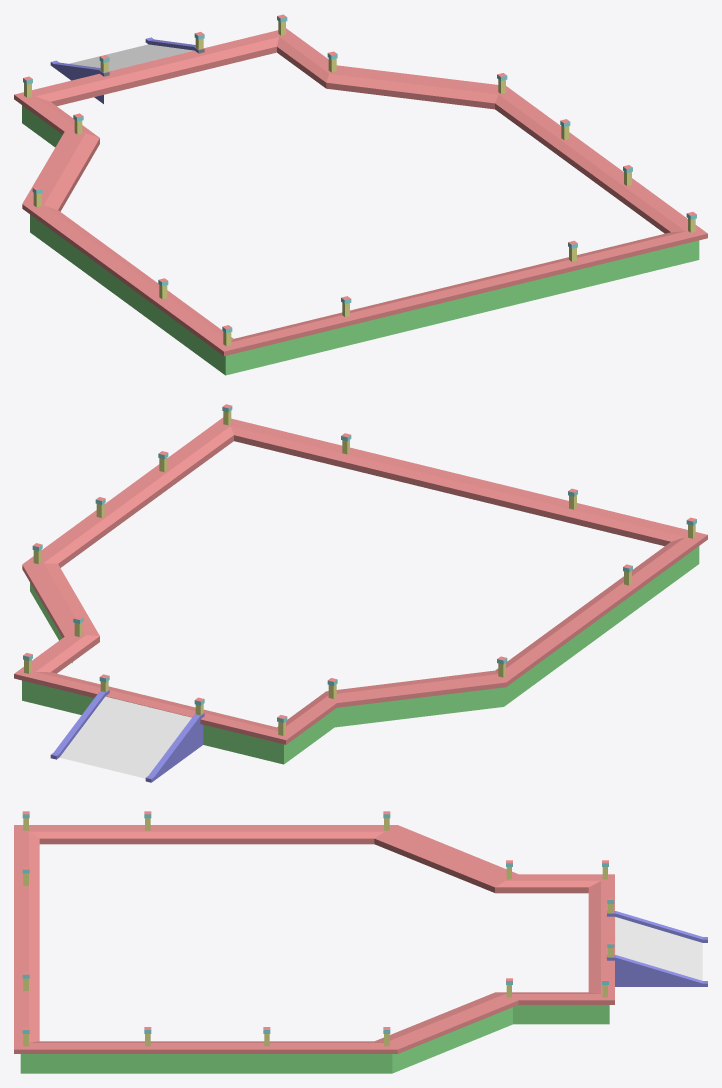
File: L2fortress_02_s__fort02_officer_frame.gltf
3 renders of one model, top to bottom at view 1: azimuth 30°, elevation 25°; view 2: azimuth 150°, elevation 25°; view 3: azimuth 270°, elevation 25°, orthographic. The views are drawn at different scales.
Parts seen in each view (by area): view 1: fort02_officer_frame; view 2: fort02_officer_frame; view 3: fort02_officer_frame.
Part boxes in pixels (x1,y1,x2,y2): fort02_officer_frame: [14, 14, 707, 375]; fort02_officer_frame: [14, 404, 707, 782]; fort02_officer_frame: [14, 811, 707, 1073].
Size of the model in its own units: 9.44 by 0.8416 by 12.33.
